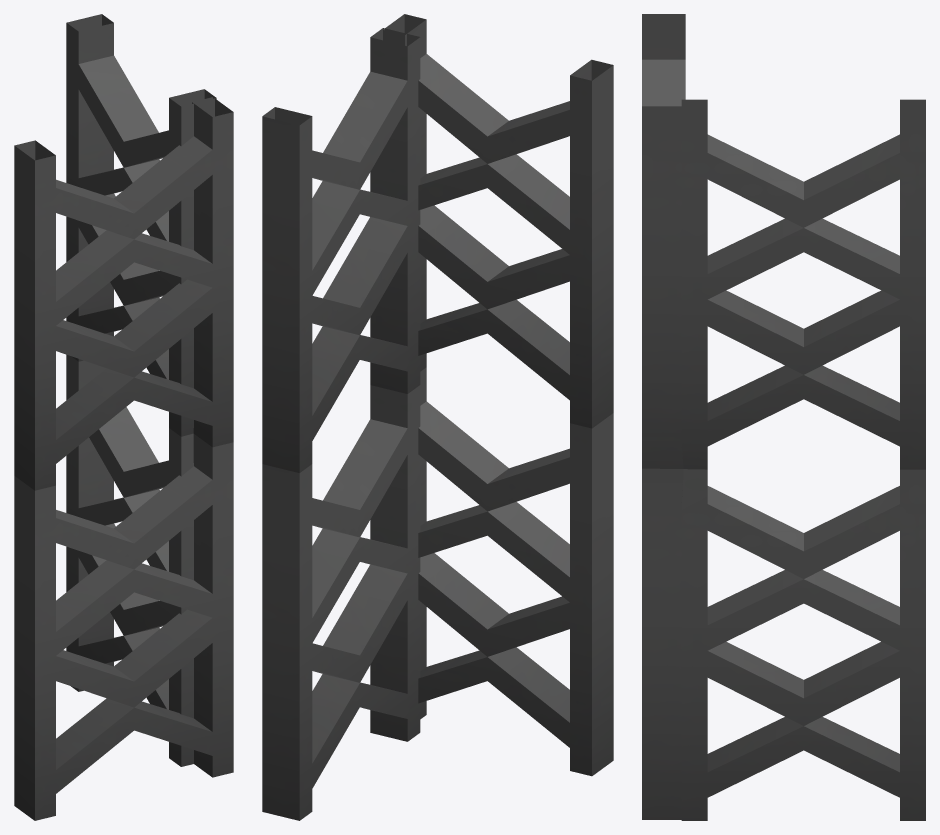
The model's file is sup_beam_1.fbx.
The picture shows the model from 3 angles, left to right: view 1: azimuth 30°, elevation 25°; view 2: azimuth 150°, elevation 25°; view 3: azimuth 270°, elevation 25°; orthographic projection. The views are drawn at different scales.
Visible parts, largest first — view 1: sup_beam_1; view 2: sup_beam_1; view 3: sup_beam_1.
Part boxes in pixels (<box>): sup_beam_1: <box>14,14,233,820</box>; sup_beam_1: <box>262,14,613,820</box>; sup_beam_1: <box>642,14,925,820</box>.
Size of the model in its own units: 5.6 by 17.63 by 6.45.
1 material, 1 textured.
